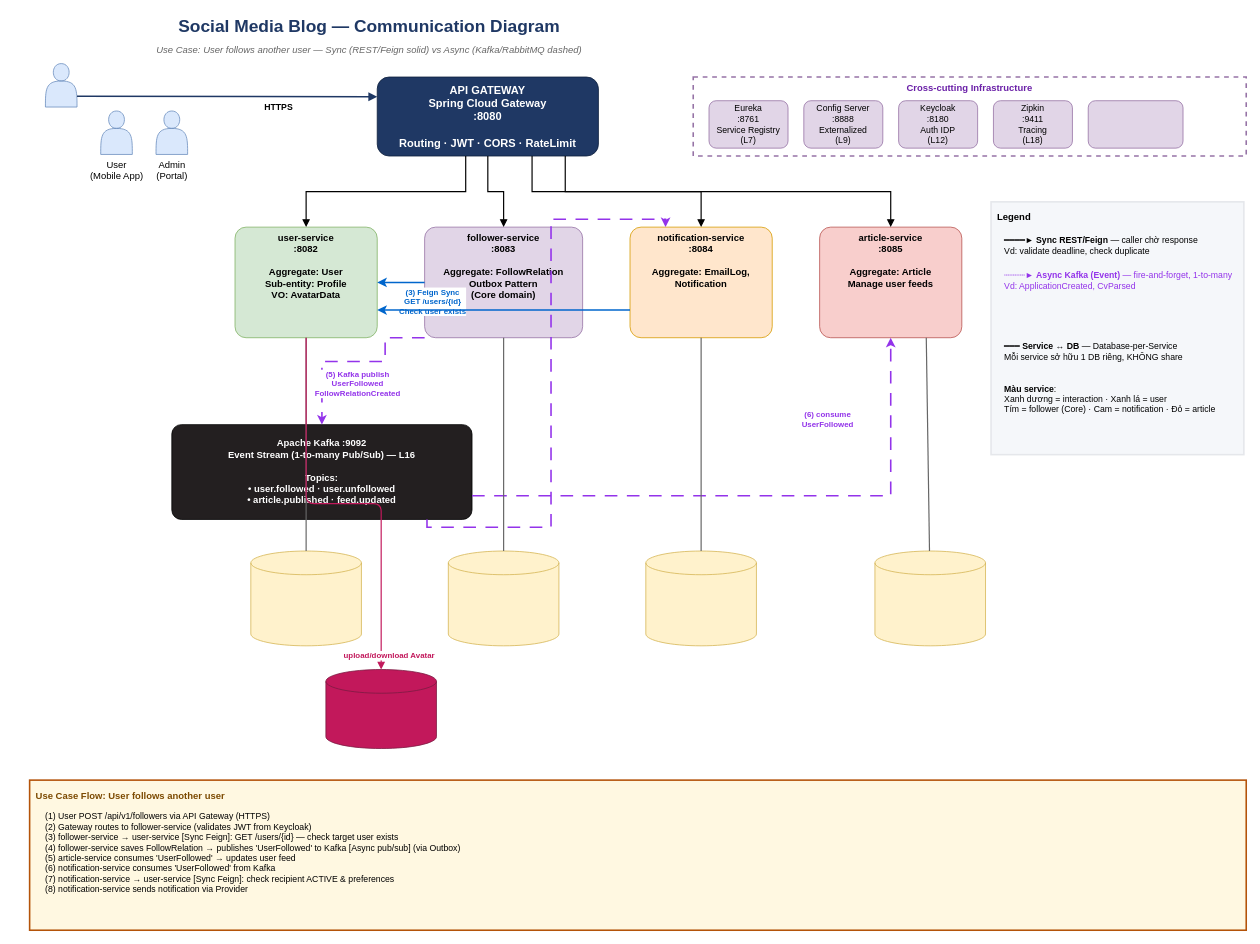
The diagram is 1260 pixels wide and 944 high, and some of its shapes have lost their labels. Here are the shapes that lost their labels. From the top down, the centre of each, then its label:
At pixel 61 85: "User (Web App)".
At pixel 1135 124: "Loki + Grafana :3000 Log + Metrics (L18)".
At pixel 305 598: "user_db PostgreSQL users, profiles, avatars".
At pixel 503 598: "follower_db PostgreSQL follow_relations, outbox_events".
At pixel 700 598: "notification_db PostgreSQL email_logs, notifications".
At pixel 930 598: "article_db PostgreSQL articles, feeds, tags".
At pixel 380 709: "MinIO :9000 S3-compatible Avatar storage".
